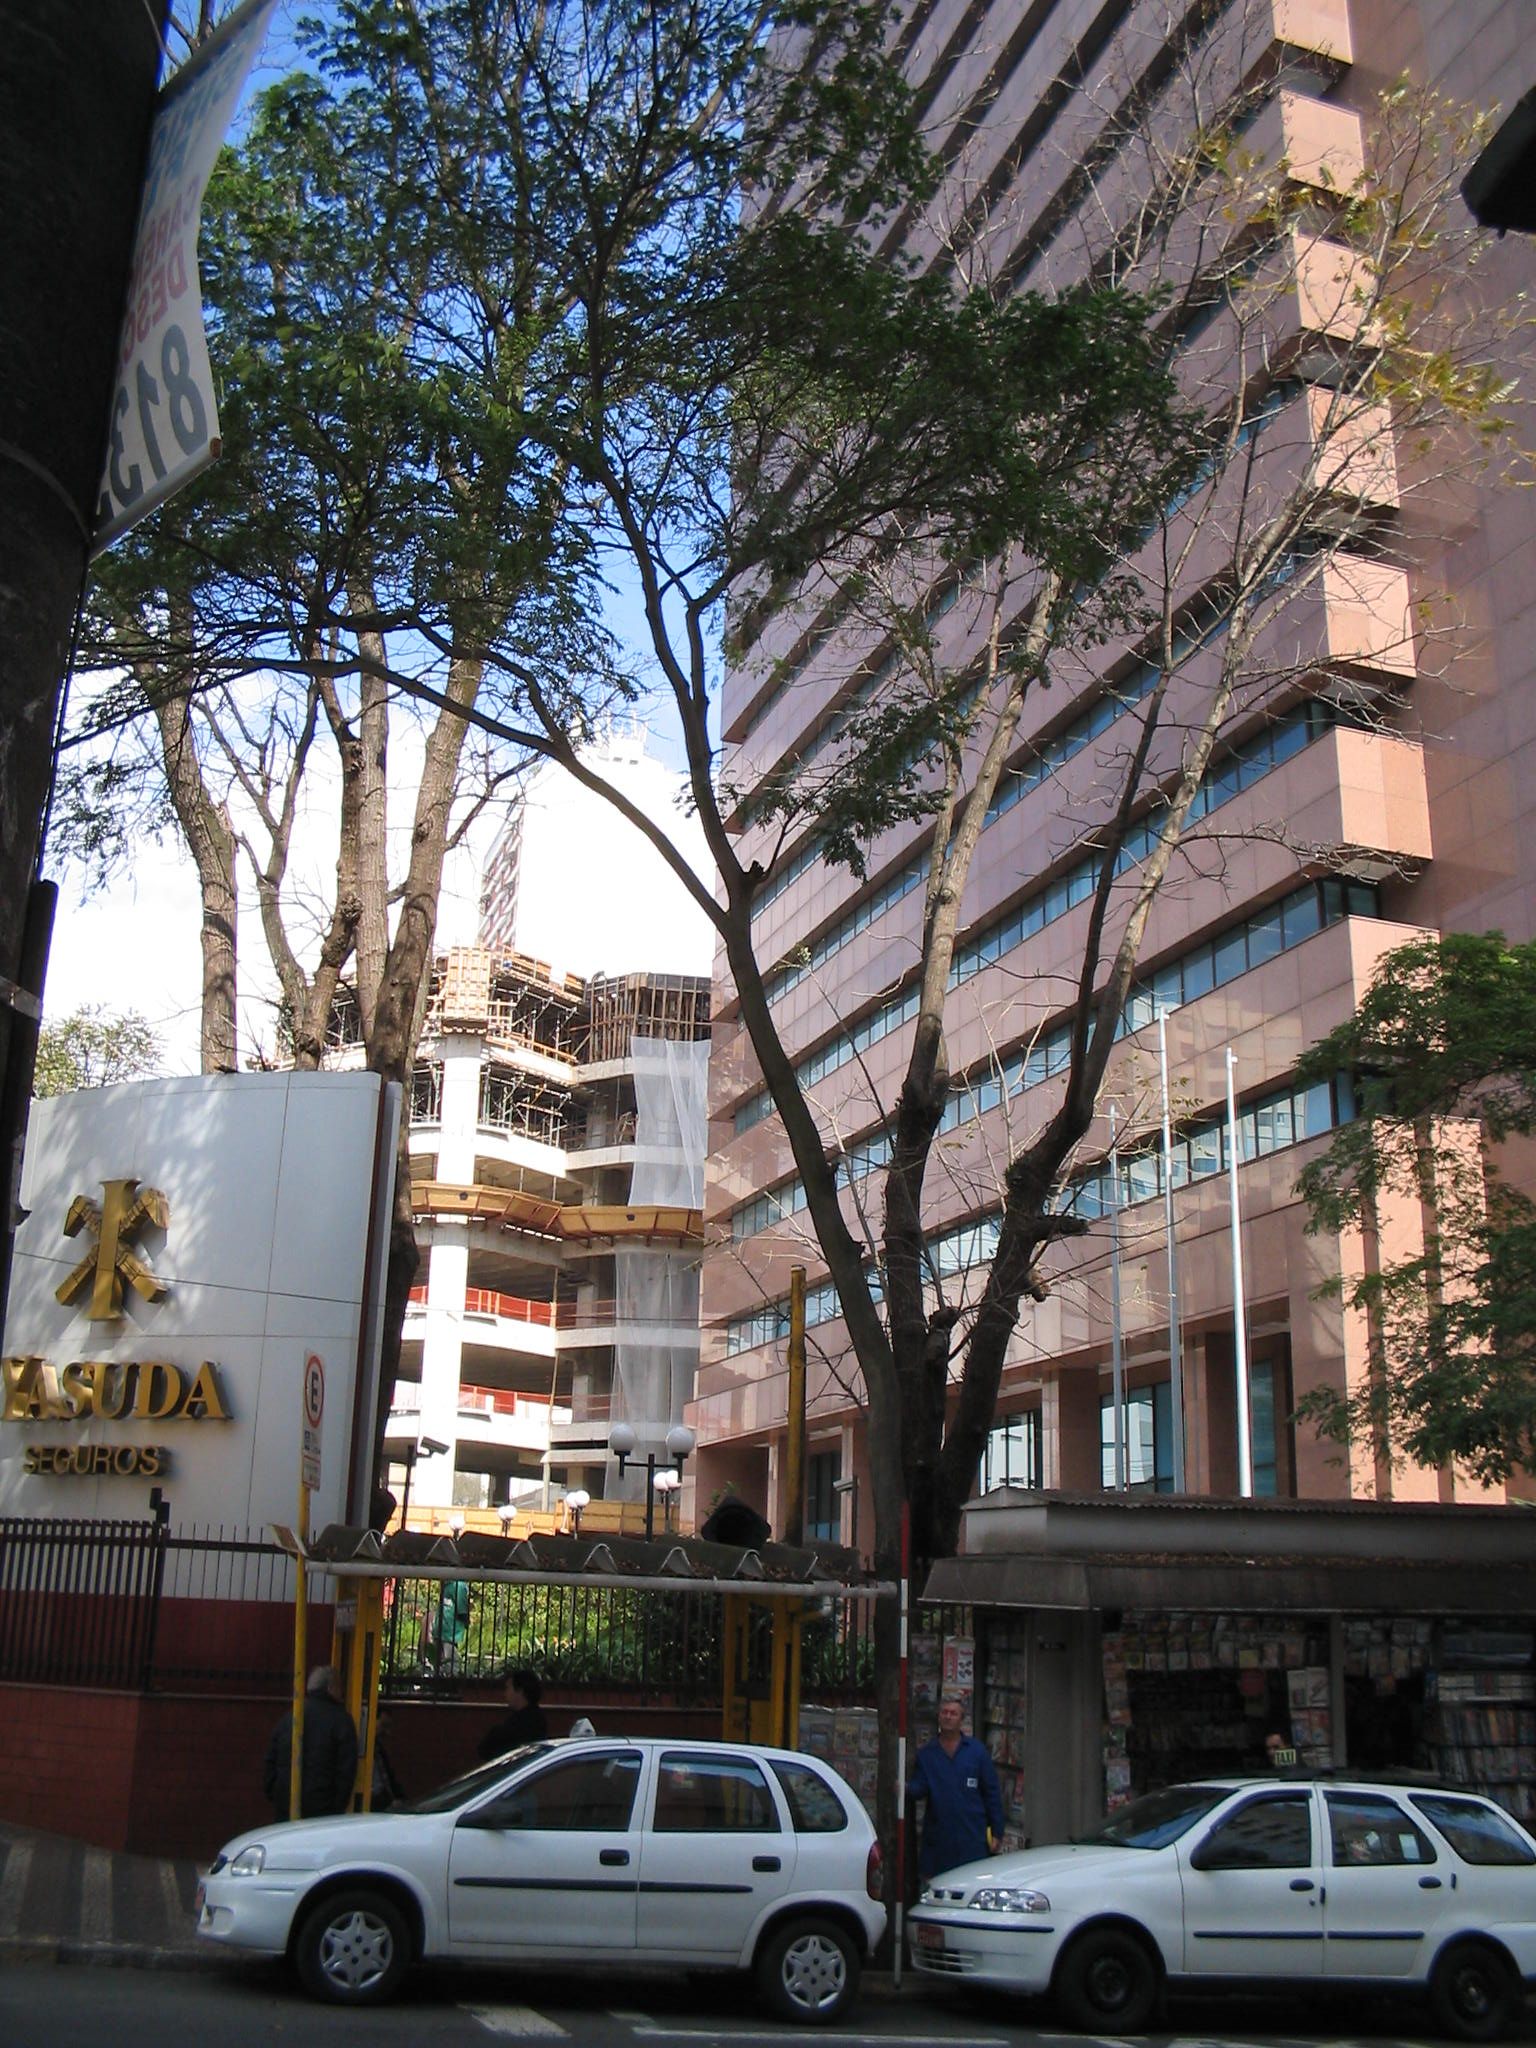crown: (82, 3, 1534, 897)
stick: (883, 1505, 921, 1987)
tree: (73, 5, 1534, 1982)
